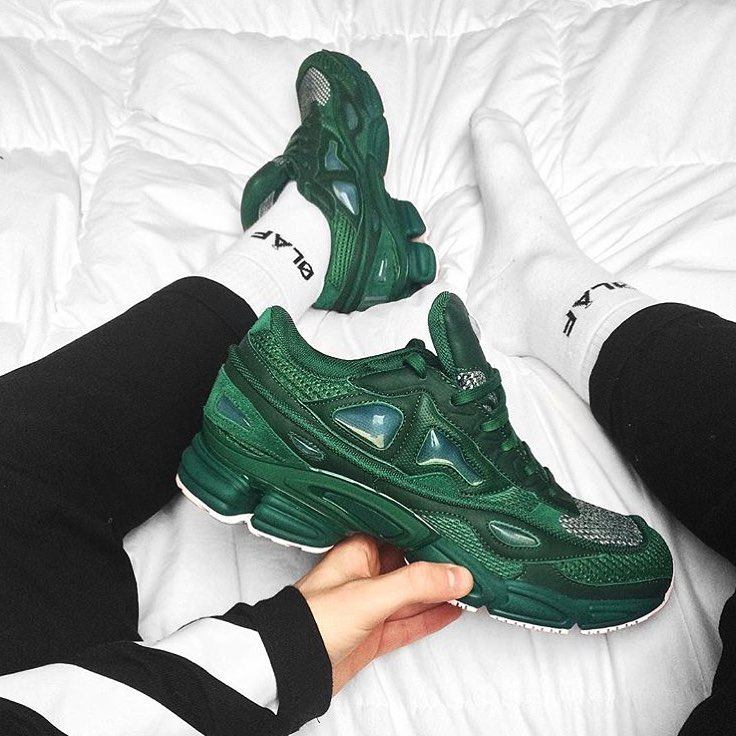sneaker: (207, 37, 451, 329)
